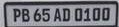character: (61, 7, 70, 22), (32, 8, 41, 22), (12, 8, 20, 22), (42, 8, 50, 22), (74, 7, 82, 21), (92, 7, 100, 21), (101, 7, 109, 21), (21, 8, 29, 21), (53, 8, 61, 21), (83, 8, 90, 22)
